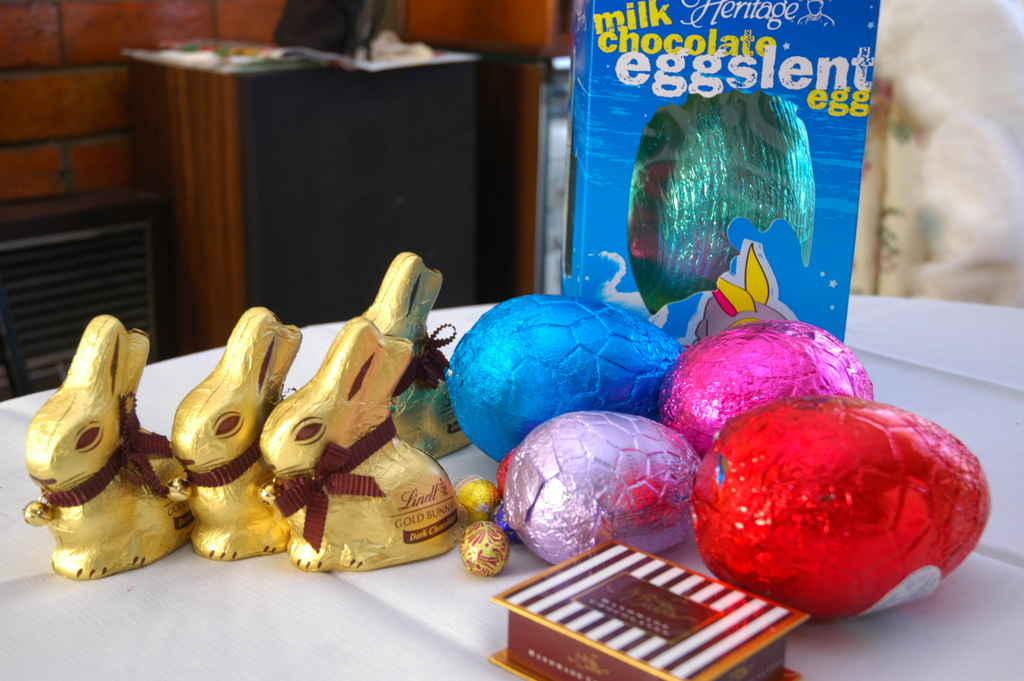Animal: (257, 311, 462, 571), (19, 307, 191, 577), (167, 300, 303, 564), (357, 247, 468, 463)
